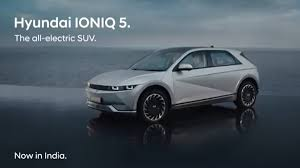Honda Ioniq: (86, 45, 262, 128)
